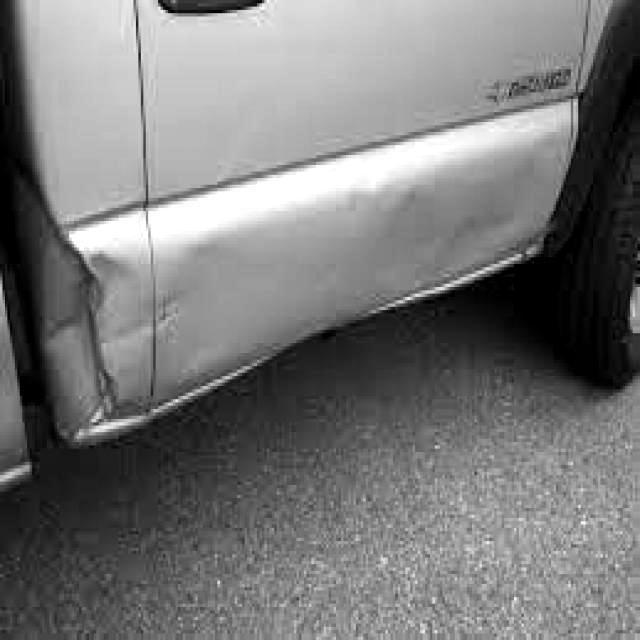doorouter-dent: (37, 224, 183, 448), (351, 171, 546, 273), (262, 297, 351, 363)
